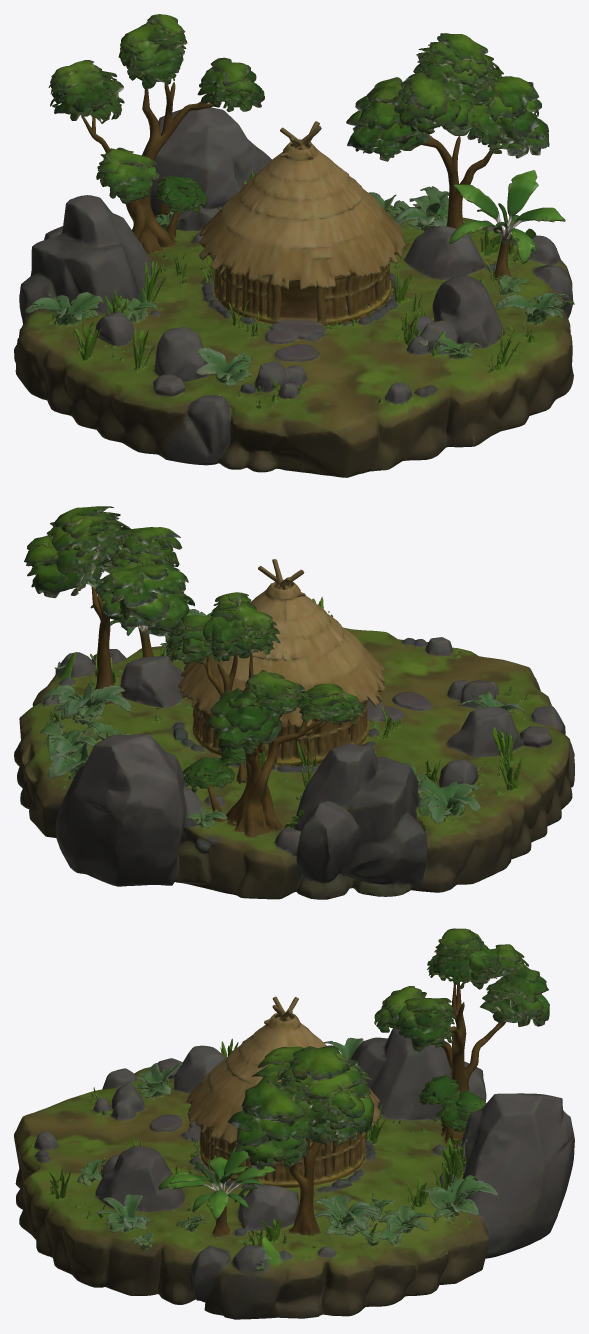
Rendered from rooster.glb.
3 renders of one model, top to bottom at view 1: azimuth 30°, elevation 25°; view 2: azimuth 150°, elevation 25°; view 3: azimuth 270°, elevation 25°, orthographic. The views are drawn at different scales.
Parts seen in each view (by area): view 1: world; view 2: world; view 3: world.
Part boxes in pixels (<box>): world: <box>14,14,574,477</box>; world: <box>14,506,574,899</box>; world: <box>14,928,574,1319</box>.
Bounding box in the file's own units: 0.9502 × 0.5121 × 1.
Materials: 1 (1 with a texture image).
